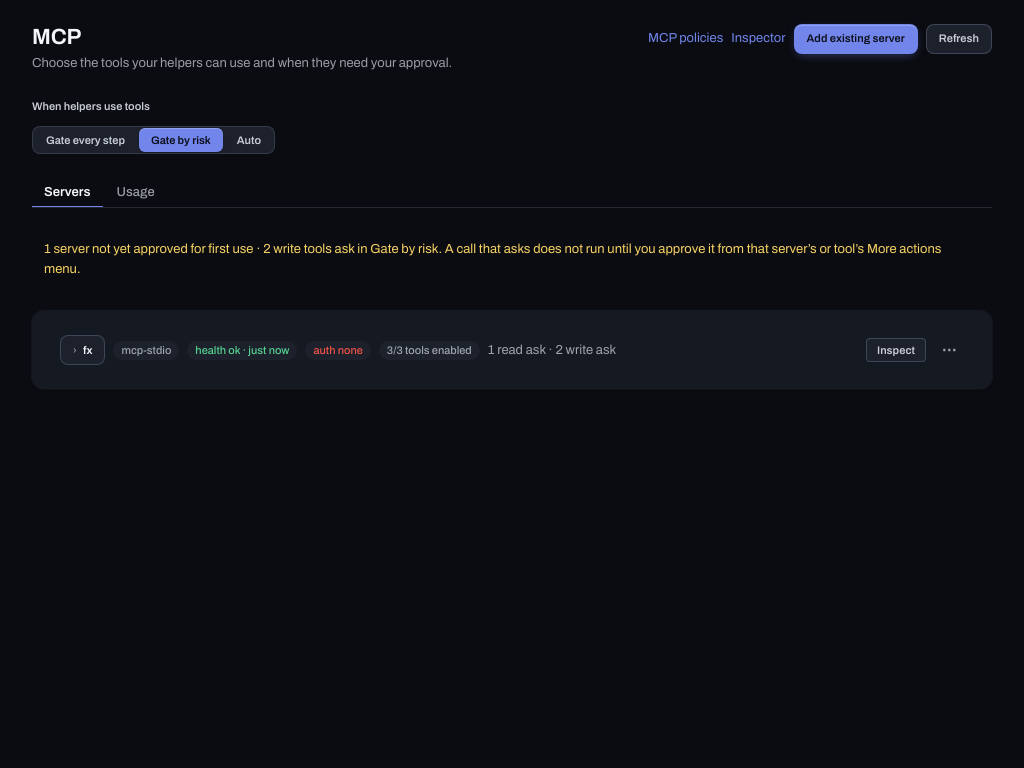
it: MCP tools: add an existing server › replacing a registered server's live secret is consented, and nothing is written until the save
Click the button with test id "mcp-add-open". click: click(856, 39)
box: [794,24,918,54]
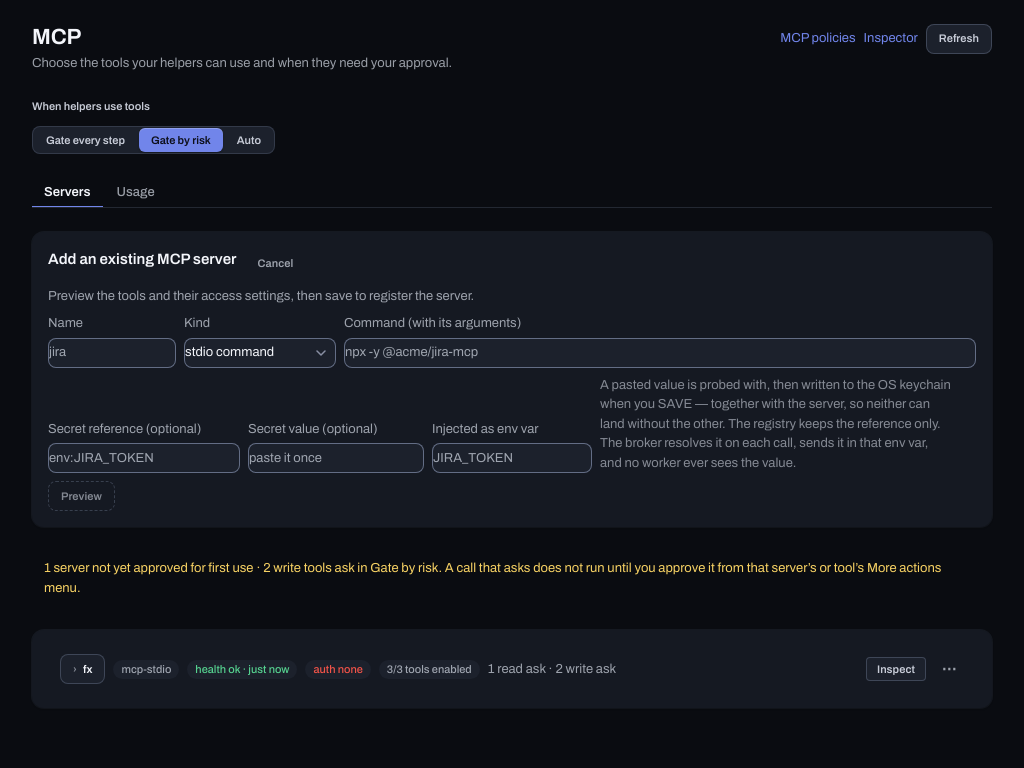
Type "fx" into the field with test id "mcp-add-name". click: (112, 353)
box: [48,338,176,368]
Type "npx -y @acme/fx" into the field with test id "mcp-add-target". click: (660, 353)
box: [344,338,976,368]
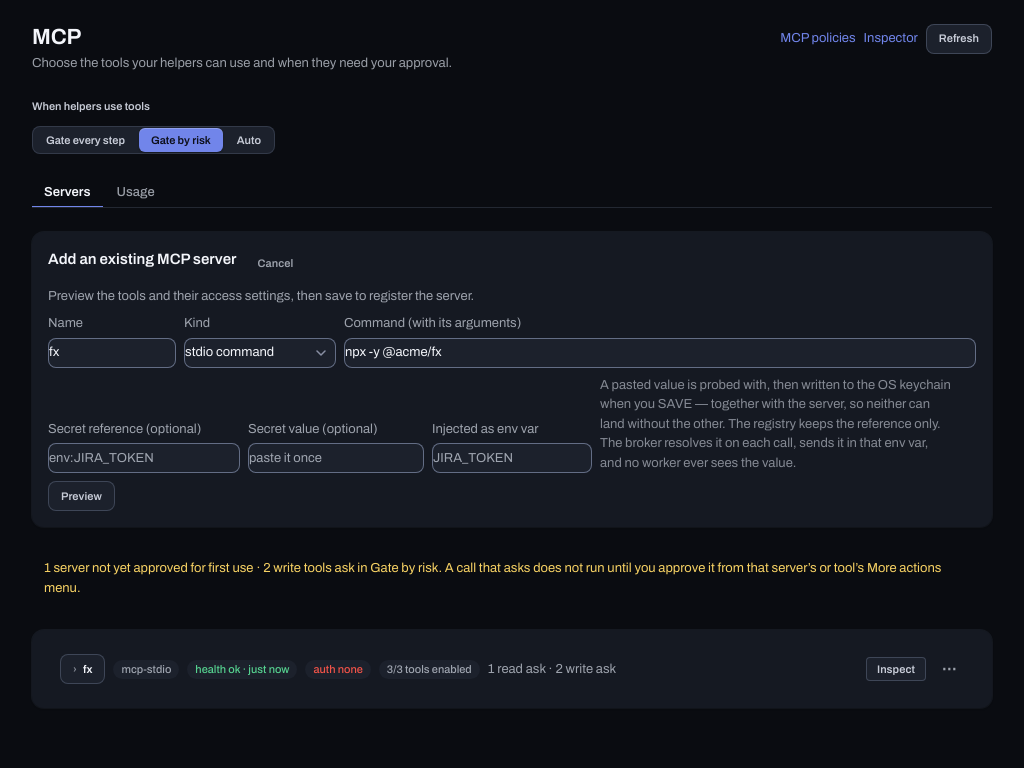
Now the button with test id "mcp-add-preview" is enabled, box [48,481,115,511]
Type "a-new-secret-value" into the password field with test id "mcp-add-auth-value". click: (336, 458)
box: [248,443,424,473]
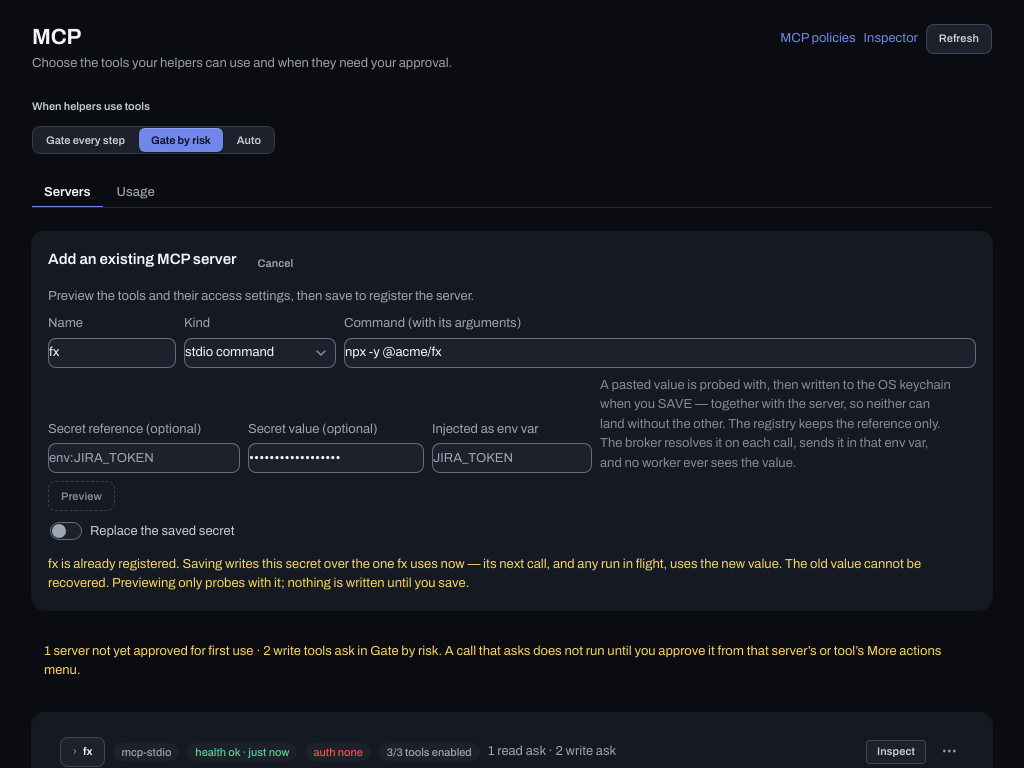
Now the element with test id "mcp-add-replace-secret" shows "already registered", box [58,557,397,571]
Now the button with test id "mcp-add-preview" is disabled, box [48,481,115,511]
Click the switch with test id "mcp-add-replace-secret-ok". click: click(142, 531)
box: [48,519,236,543]
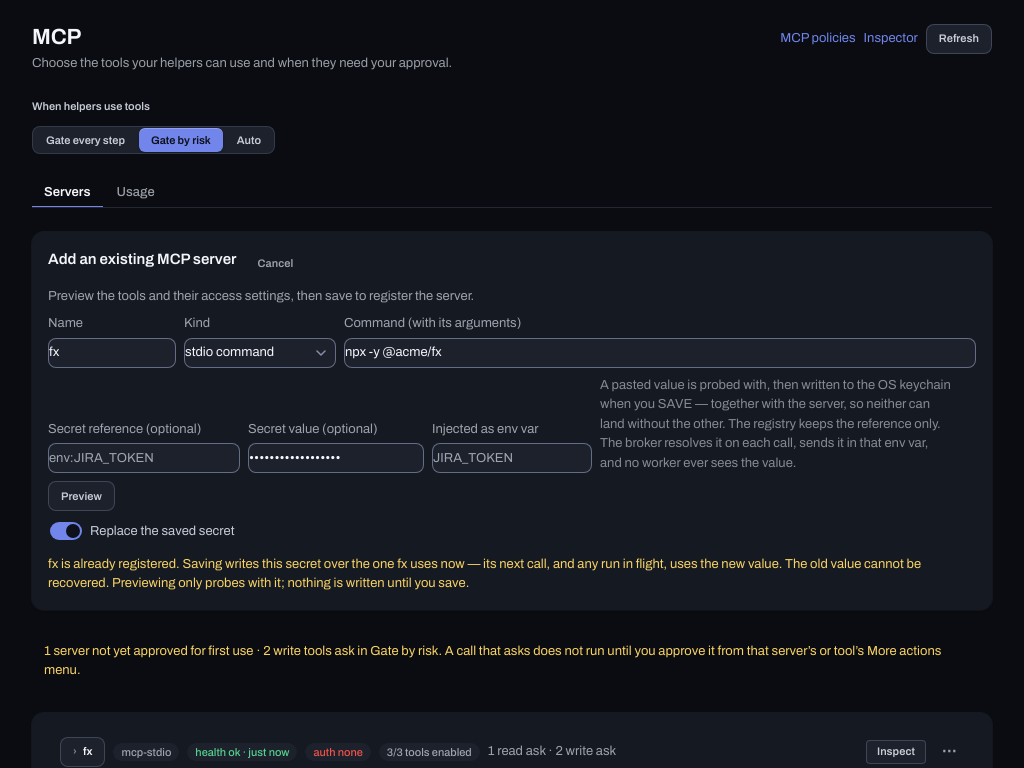
Now the button with test id "mcp-add-preview" is enabled
Click the button with test id "mcp-add-preview". click: click(81, 496)
box: [48,481,115,511]
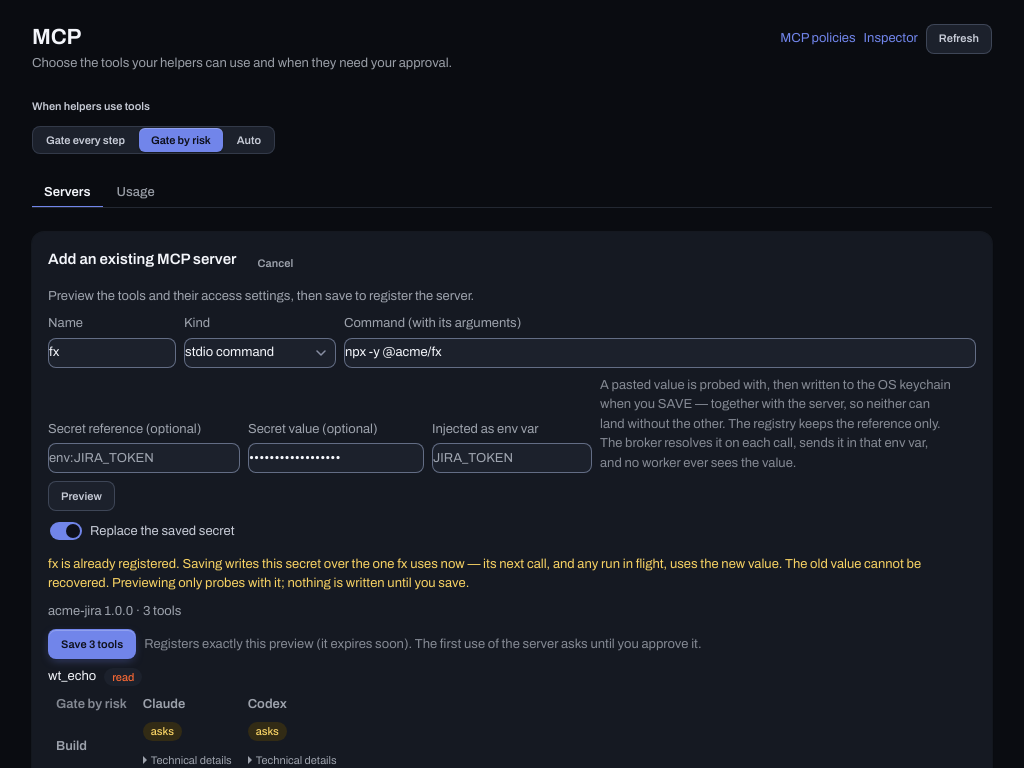
Note: Retyping the name or the value takes the consent back.
Type "another-secret-value" into the password field with test id "mcp-add-auth-value". click: (336, 458)
box: [248,443,424,473]
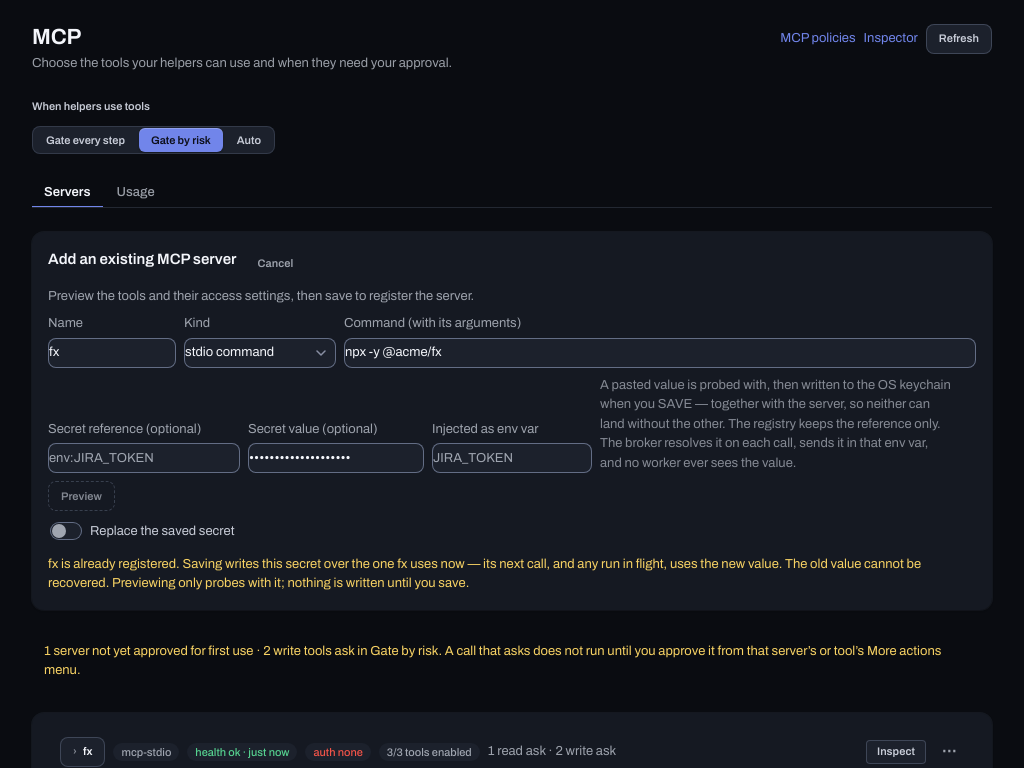
Now the button with test id "mcp-add-preview" is disabled, box [48,481,115,511]
